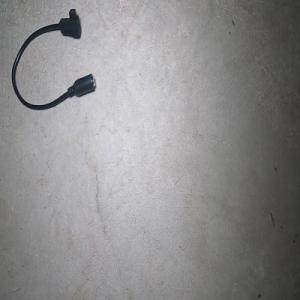Wire: (11, 8, 95, 110)
